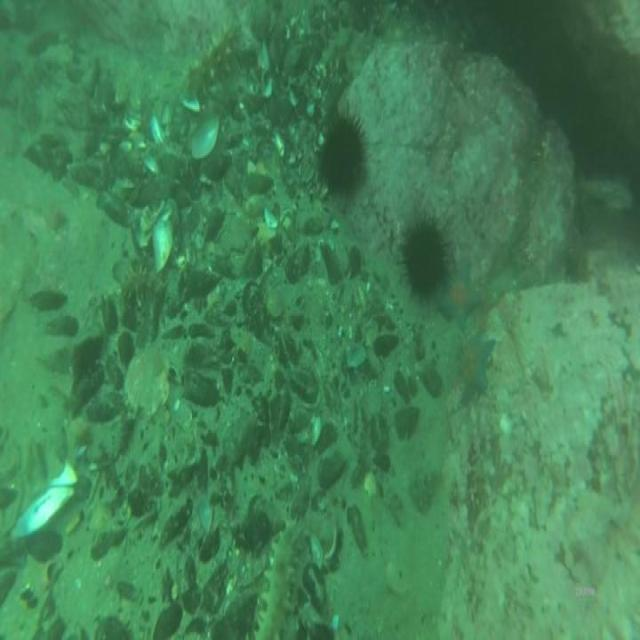echinus: (321, 118, 365, 196), (404, 224, 446, 294)
holothurian: (255, 521, 304, 640)
scallop: (122, 341, 168, 414)
starfish: (456, 327, 494, 397), (440, 256, 476, 326)
